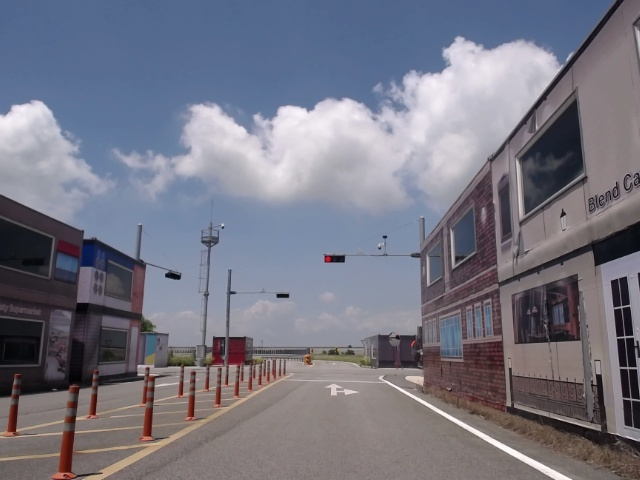red_3: (324, 255, 345, 262)
